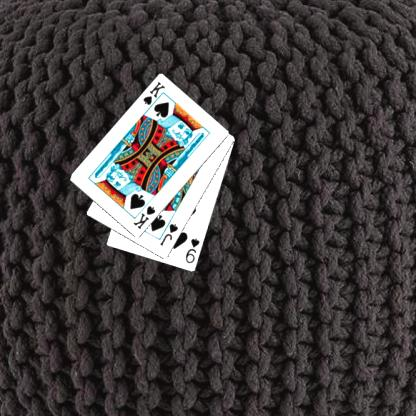9S: (183, 235, 201, 265)
JS: (158, 221, 180, 247)
KS: (141, 79, 166, 112), (130, 203, 156, 231)
